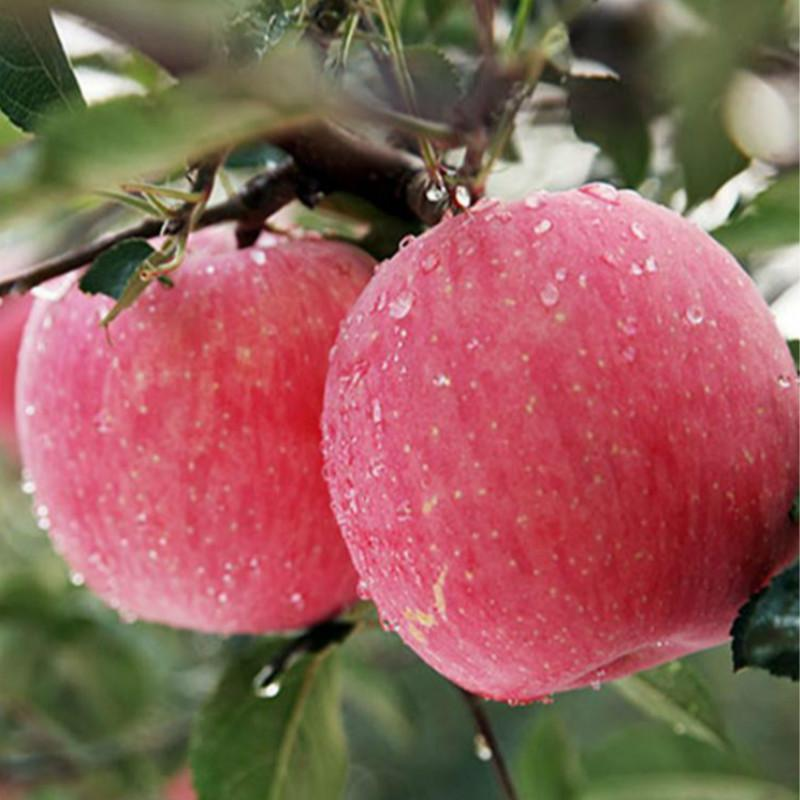apple: (273, 185, 794, 688), (13, 232, 388, 636)
